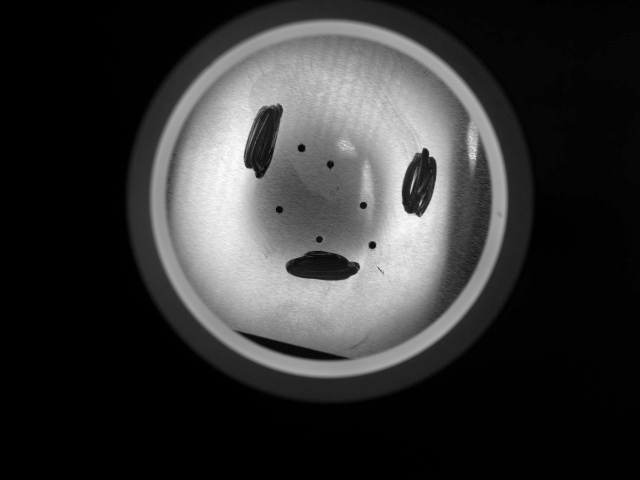zang_wu: (278, 238, 373, 292), (238, 94, 290, 183), (394, 140, 446, 224)
zhen_kong: (351, 195, 378, 216), (319, 155, 342, 178), (363, 234, 383, 258), (268, 200, 290, 221), (292, 139, 312, 160), (310, 230, 330, 248)
